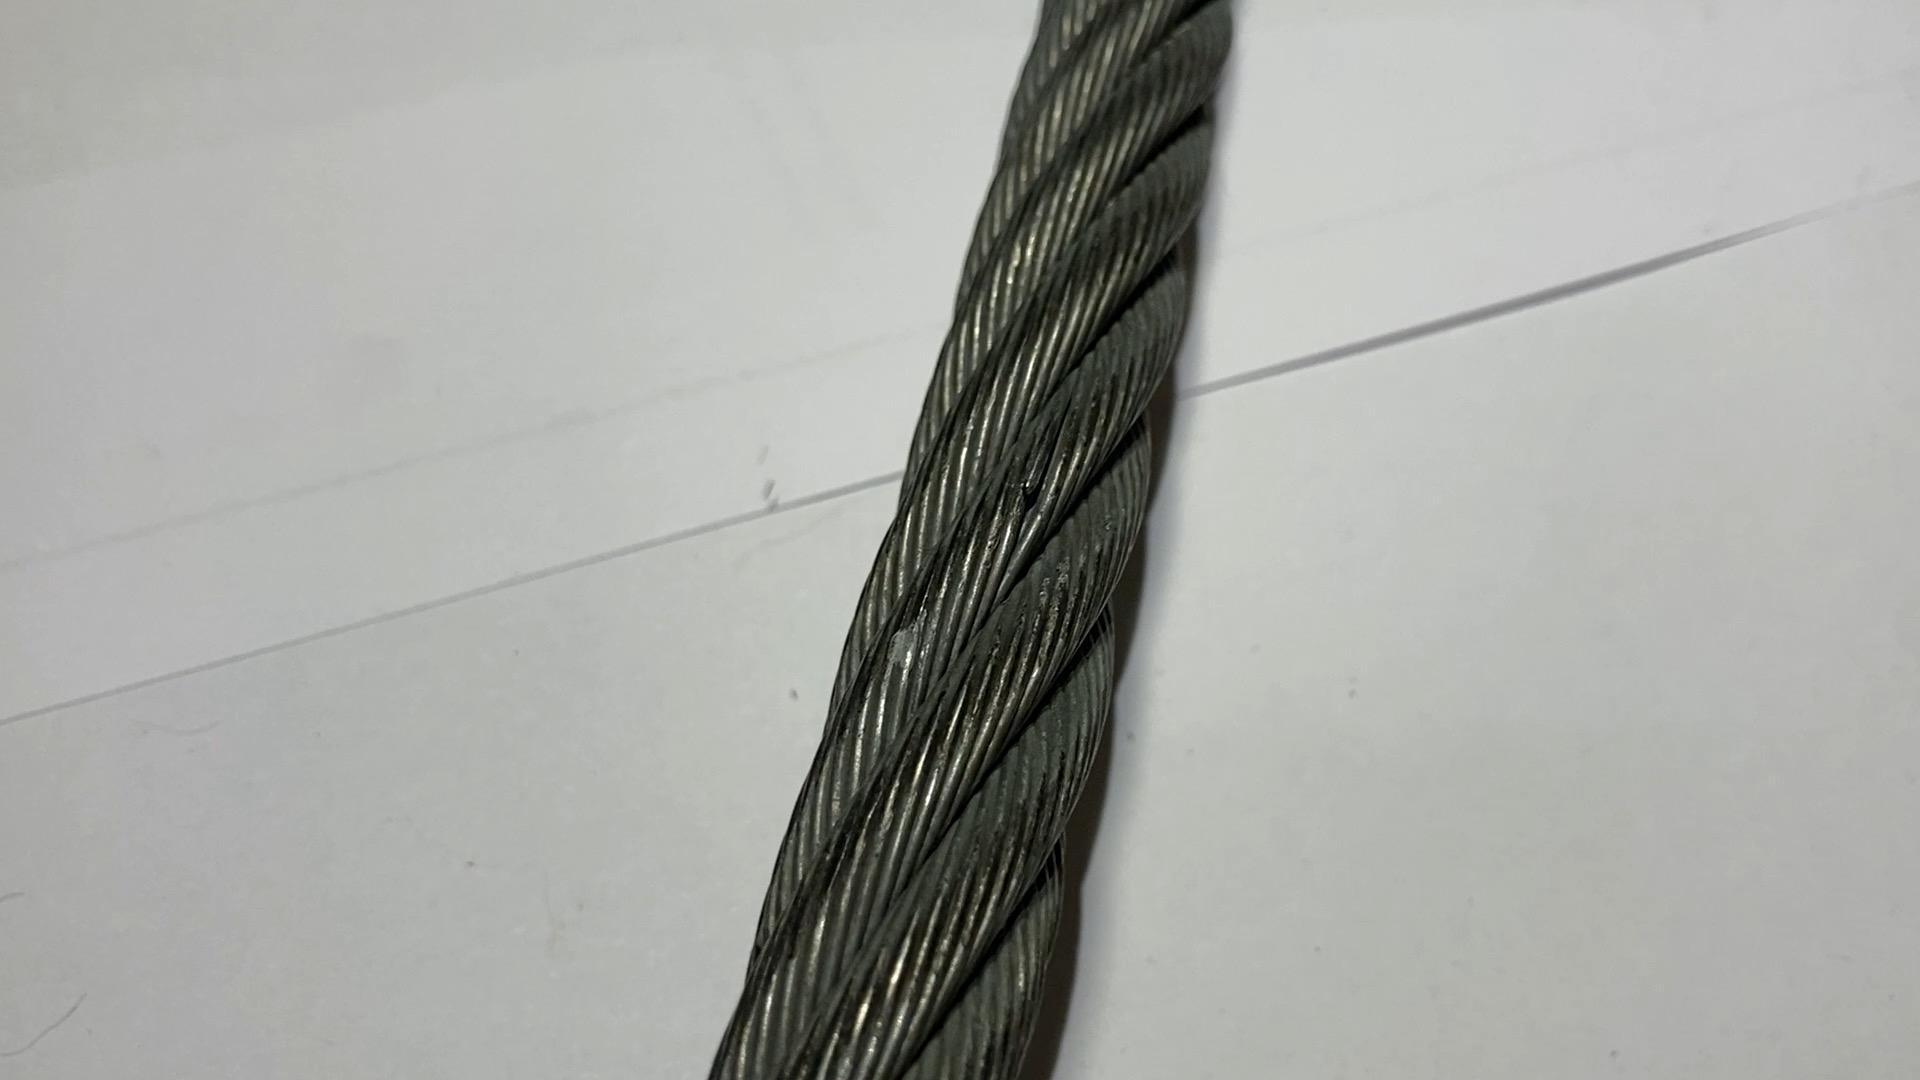break: (1005, 419, 1071, 517)
